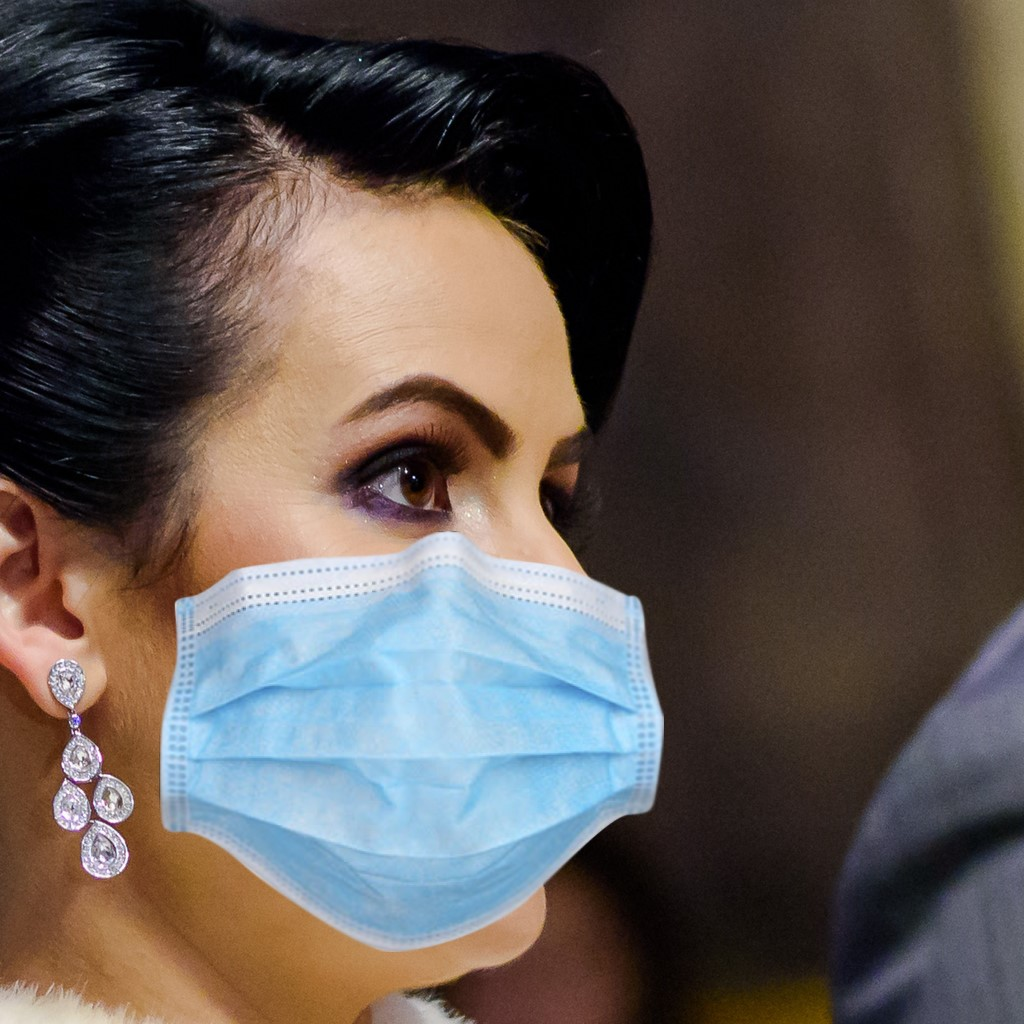con_mascara: (67, 78, 640, 991)
